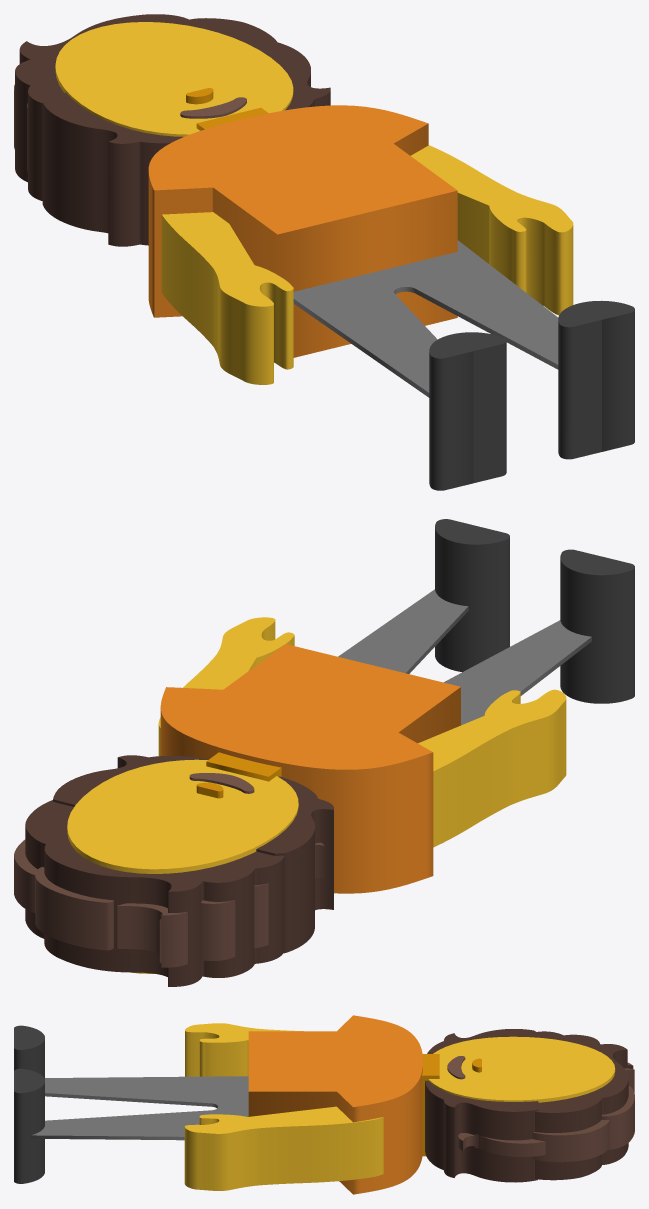
File: emoji_u1f9cd.glb
The picture shows the model from 3 angles, top to bottom: view 1: azimuth 30°, elevation 25°; view 2: azimuth 150°, elevation 25°; view 3: azimuth 270°, elevation 25°; orthographic projection. The views are drawn at different scales.
Parts seen in each view (by area): view 1: emoji_u1f9cd; view 2: emoji_u1f9cd; view 3: emoji_u1f9cd.
Boxes of the visible parts, left/top/right/bottom form: emoji_u1f9cd: left=14, top=14, right=634, bottom=490; emoji_u1f9cd: left=14, top=519, right=634, bottom=986; emoji_u1f9cd: left=14, top=1015, right=634, bottom=1194.
Bounding box in the file's own units: 0.0143 × 0.0054 × 0.0335.
